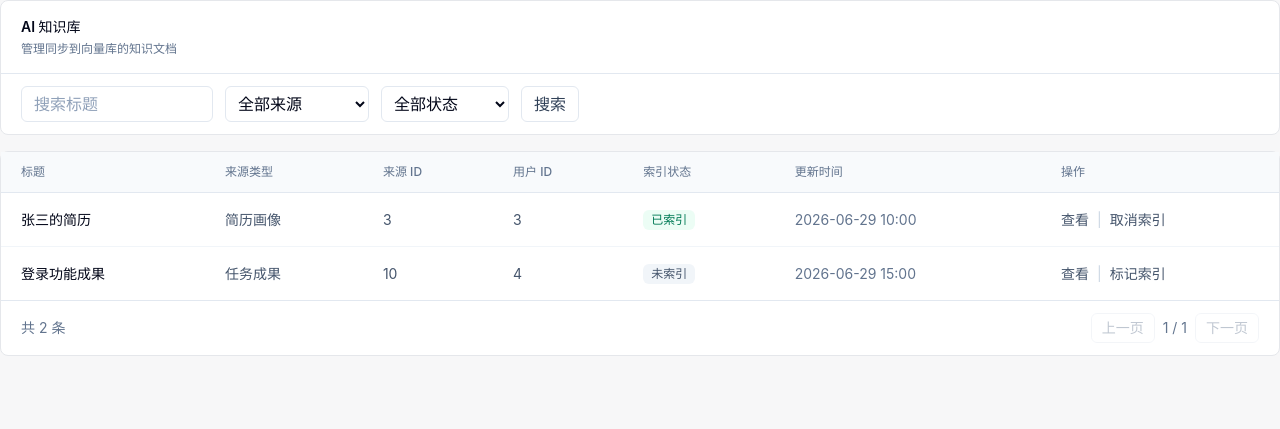
Test: KnowledgeView › shows error when toggle indexed fails
This screenshot has width=1280, height=429.
Click the button "取消索引" at (1138, 220), box [1110,210,1166,230]
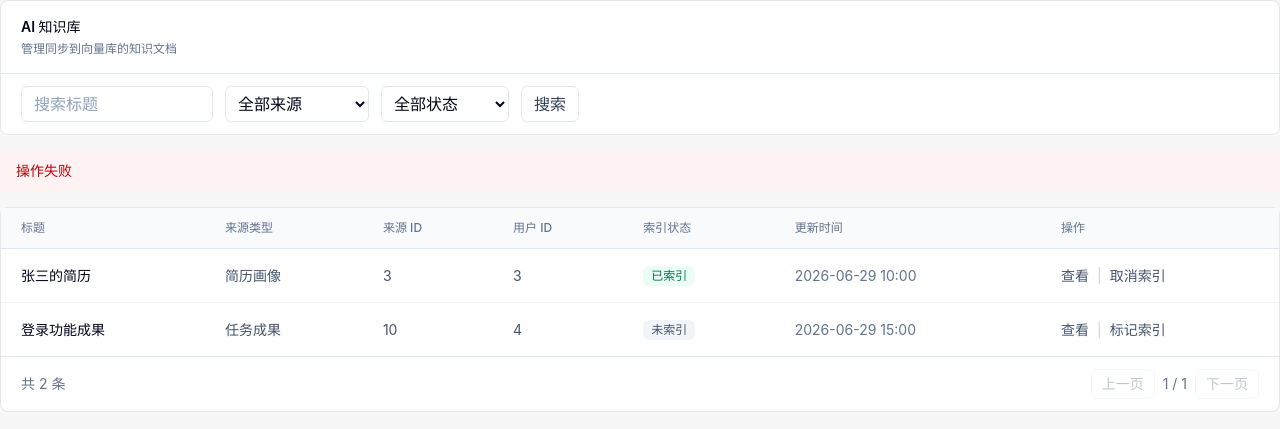
Check: the text "操作失败" is shown, box [0,151,1279,191]
